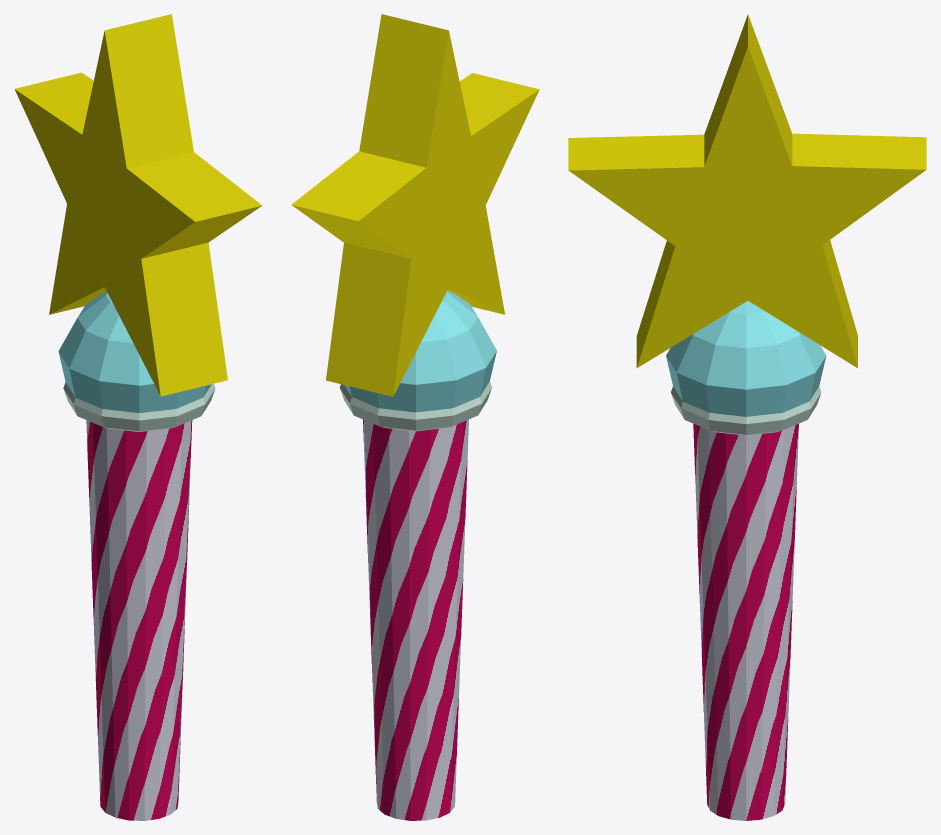
The model's file is fairywand-new.fbx.
3 renders of one model, left to right at view 1: azimuth 30°, elevation 25°; view 2: azimuth 150°, elevation 25°; view 3: azimuth 270°, elevation 25°, orthographic.
Visible parts, largest first — view 1: star, handle, dome, ring; view 2: star, handle, dome, ring; view 3: star, handle, dome, ring.
Part boxes in pixels (x1=…): star: x1=14, y1=14, x2=262, y2=396; handle: x1=86, y1=420, x2=192, y2=820; dome: x1=58, y1=291, x2=211, y2=412; ring: x1=63, y1=382, x2=215, y2=431; star: x1=291, y1=14, x2=539, y2=396; handle: x1=363, y1=419, x2=468, y2=820; dome: x1=344, y1=290, x2=496, y2=412; ring: x1=339, y1=381, x2=491, y2=431; star: x1=568, y1=14, x2=926, y2=368; handle: x1=693, y1=424, x2=798, y2=820; dome: x1=666, y1=301, x2=826, y2=416; ring: x1=671, y1=386, x2=821, y2=435.
Size of the model in its own units: 37.74 by 201 by 84.27.
